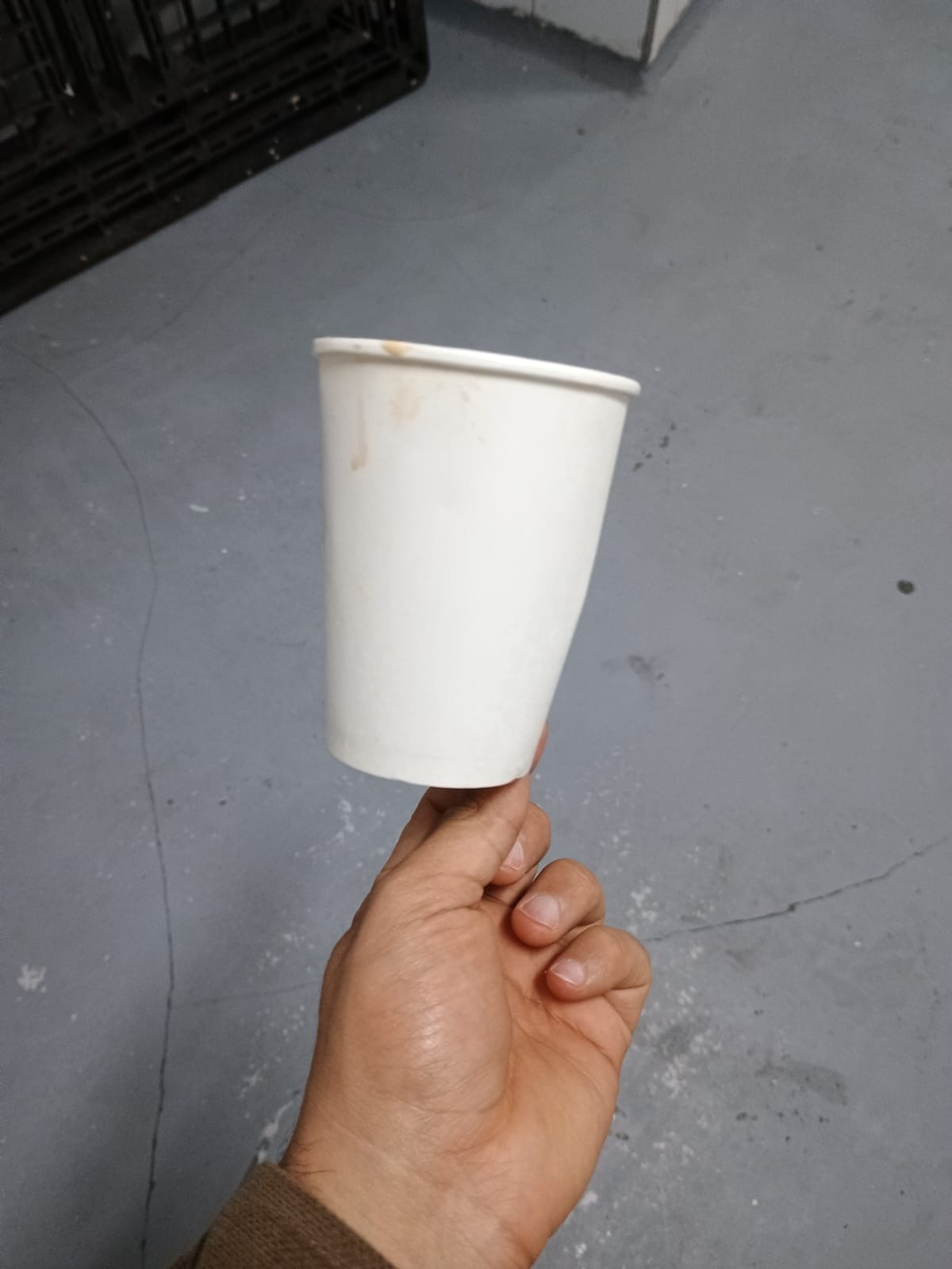Carton: (315, 331, 643, 789)
